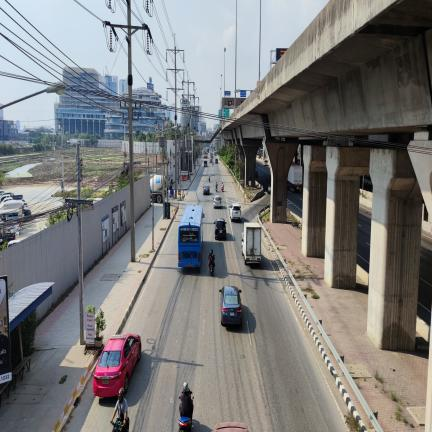bus: (178, 205, 204, 267)
car: (219, 286, 242, 326), (214, 218, 226, 240), (229, 203, 241, 221), (214, 195, 222, 208), (203, 185, 210, 195)
human: (111, 388, 129, 431), (180, 382, 193, 418), (209, 250, 215, 267), (209, 256, 215, 269), (216, 182, 217, 191), (222, 182, 223, 188), (209, 175, 210, 181)
motorbike: (179, 416, 192, 432), (210, 263, 214, 276), (221, 185, 224, 192), (208, 175, 210, 182), (215, 185, 217, 192), (179, 396, 181, 399)
taxi: (93, 334, 141, 397)
truck: (242, 223, 261, 265), (287, 163, 302, 192)
